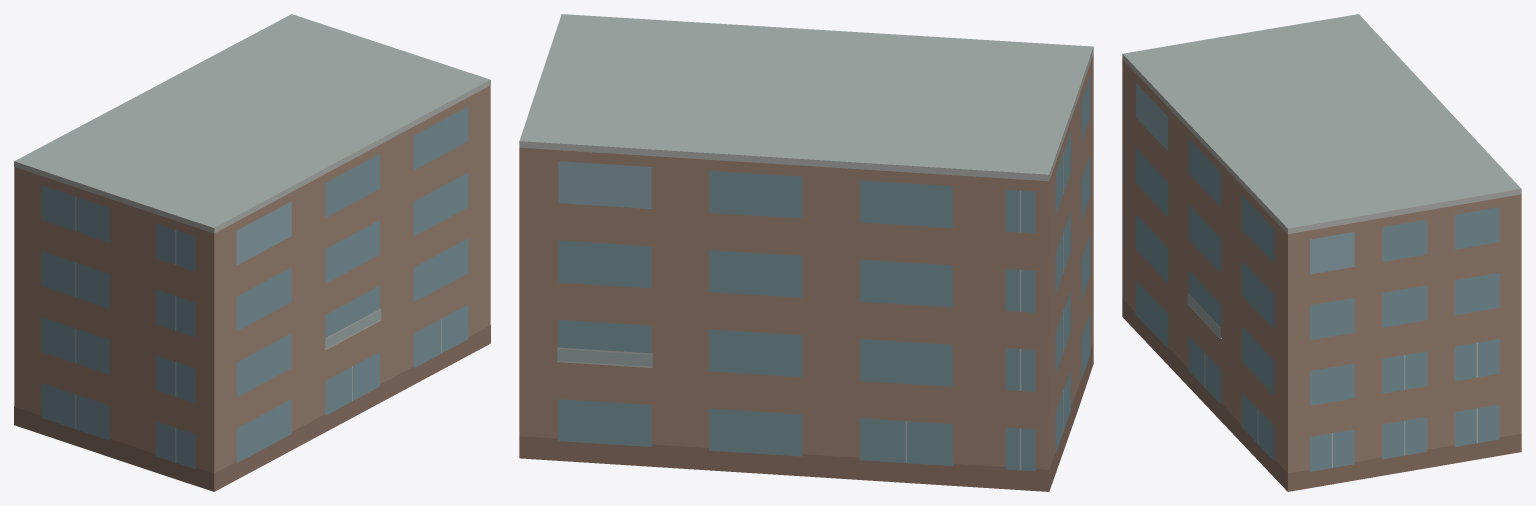
Rendered from survey-upis-32725852.glb.
3 views of the same model, side by side, from view 1: azimuth 30°, elevation 25°; view 2: azimuth 150°, elevation 25°; view 3: azimuth 270°, elevation 25° (orthographic). The views are drawn at different scales.
Visible parts, largest first — view 1: survey-upis-32725852.tmp; view 2: survey-upis-32725852.tmp; view 3: survey-upis-32725852.tmp.
Boxes of the visible parts, box(x1,y1,x2,y2) form: survey-upis-32725852.tmp: box(14, 14, 490, 491); survey-upis-32725852.tmp: box(519, 14, 1093, 491); survey-upis-32725852.tmp: box(1122, 14, 1521, 491).
Size of the model in its own units: 20.48 by 11.7 by 16.09.
